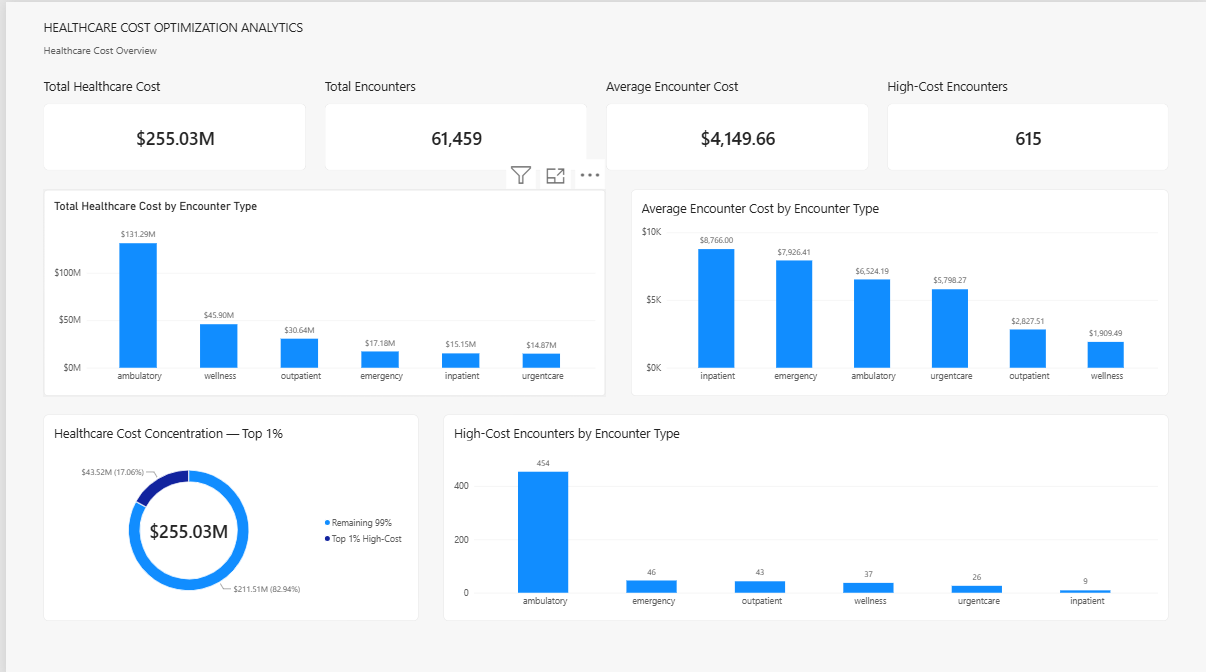

This screenshot's page, from the dashboard's own definition file:
{"tool":"powerbi","page":{"name":"1. Page Healthcare Cost Overview","canvas":[1920,1080],"ordinal":0},"visuals":[{"type":"textbox","title":"HEALTHCARE COST OPTIMIZATION ANALYTICS","box":[60,26,1000,40],"z":0},{"type":"textbox","box":[60,65,800,30],"z":1000},{"type":"cardVisual","title":"Total Healthcare Cost","fields":{"Data":["Sum(healthcare_analytical_dataset.TOTAL_CLAIM_COST)"]},"box":[60,120,420,150],"z":2000},{"type":"cardVisual","title":"Total Encounters","fields":{"Data":["healthcare_analytical_dataset.Total Encounters Display"]},"box":[510,120,420,150],"z":3000},{"type":"cardVisual","title":"Average Encounter Cost","fields":{"Data":["healthcare_analytical_dataset.Average Encounter Cost Display"]},"box":[960,120,420,150],"z":4000},{"type":"cardVisual","title":"High-Cost Encounters","fields":{"Data":["healthcare_analytical_dataset.High Cost Encounters"]},"box":[1410,120,450,150],"z":5000},{"type":"clusteredColumnChart","title":"Total Healthcare Cost by Encounter Type","fields":{"Category":["healthcare_analytical_dataset.ENCOUNTERCLASS"],"Y":["Sum(healthcare_analytical_dataset.TOTAL_CLAIM_COST)"]},"box":[60,300,900,330],"z":6000},{"type":"clusteredColumnChart","title":"Average Encounter Cost by Encounter Type","fields":{"Category":["healthcare_analytical_dataset.ENCOUNTERCLASS"],"Y":["Avg(healthcare_analytical_dataset.TOTAL_CLAIM_COST)"]},"box":[1000,300,860,330],"z":7000},{"type":"donutChart","title":"Healthcare Cost Concentration — Top 1%","fields":{"Category":["healthcare_analytical_dataset.Cost Concentration Group"],"Y":["Sum(healthcare_analytical_dataset.TOTAL_CLAIM_COST)"]},"box":[60,660,600,330],"z":8000},{"type":"clusteredColumnChart","title":"High-Cost Encounters by Encounter Type","fields":{"Category":["healthcare_analytical_dataset.ENCOUNTERCLASS"],"Y":["healthcare_analytical_dataset.High Cost Encounters by Type"]},"box":[700,660,1160,330],"z":9000}]}

Visuals, with their boxes in screenshot pixels (x1, y1, x2, y2), scaled from the page's 1920x1080 canvas onto the 1206x672 screenshot:
"HEALTHCARE COST OPTIMIZATION ANALYTICS" textbox: Rect(38, 16, 666, 41)
textbox: Rect(38, 40, 540, 59)
"Total Healthcare Cost" cardVisual: Rect(38, 75, 302, 168)
"Total Encounters" cardVisual: Rect(320, 75, 584, 168)
"Average Encounter Cost" cardVisual: Rect(603, 75, 867, 168)
"High-Cost Encounters" cardVisual: Rect(886, 75, 1168, 168)
"Total Healthcare Cost by Encounter Type" clusteredColumnChart: Rect(38, 187, 603, 392)
"Average Encounter Cost by Encounter Type" clusteredColumnChart: Rect(628, 187, 1168, 392)
"Healthcare Cost Concentration — Top 1%" donutChart: Rect(38, 411, 415, 616)
"High-Cost Encounters by Encounter Type" clusteredColumnChart: Rect(440, 411, 1168, 616)
